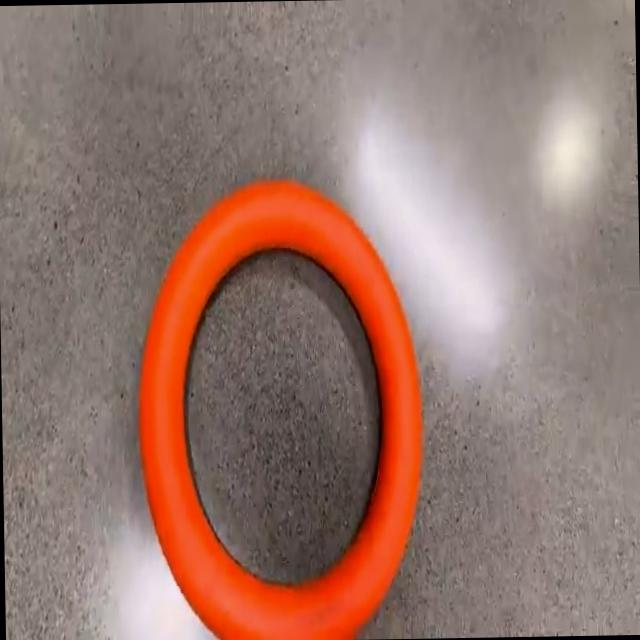note: (139, 180, 422, 640)
